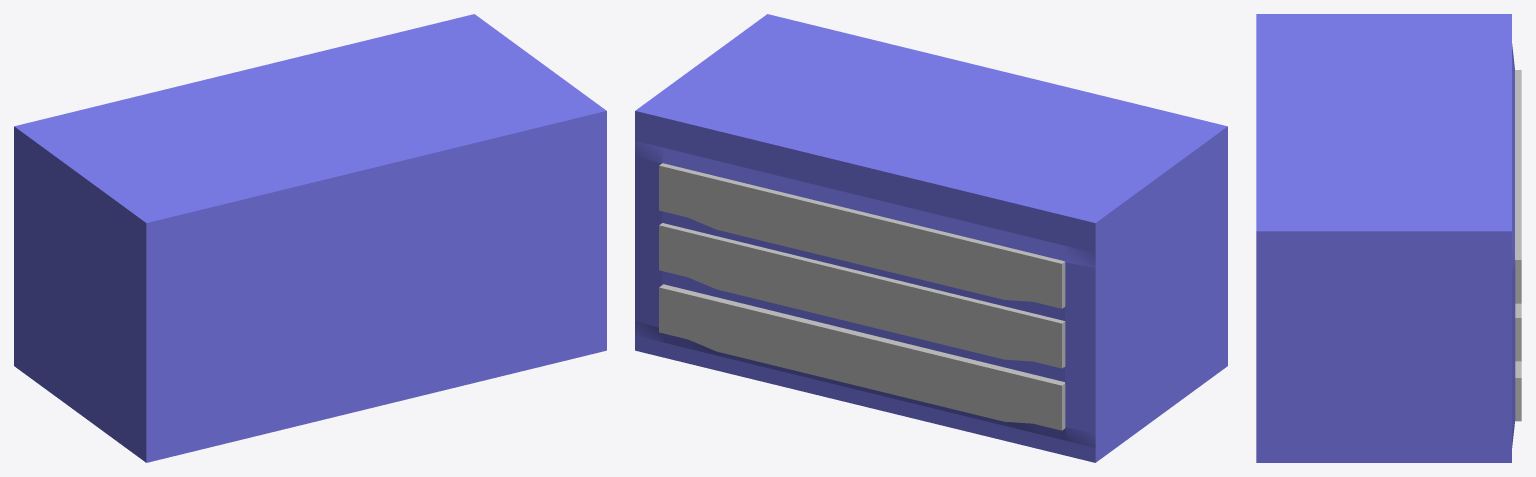
File: Chest_openable.fbx
3 views of the same model, side by side, from view 1: azimuth 30°, elevation 25°; view 2: azimuth 150°, elevation 25°; view 3: azimuth 270°, elevation 25° (orthographic). The views are drawn at different scales.
Parts seen in each view (by area): view 1: Chest_openable; view 2: Chest_openable, Chest_drawer__2_, Chest_drawer, Chest_drawer__1_; view 3: Chest_openable, Chest_drawer, Chest_drawer__2_, Chest_drawer__1_.
Part boxes in pixels (x1,y1,x2,y2): Chest_openable: (14, 14, 606, 462); Chest_openable: (635, 14, 1227, 462); Chest_drawer__2_: (659, 284, 1065, 430); Chest_drawer: (659, 163, 1065, 308); Chest_drawer__1_: (659, 223, 1065, 368); Chest_openable: (1256, 14, 1515, 462); Chest_drawer: (1515, 70, 1521, 303); Chest_drawer__2_: (1515, 361, 1521, 421); Chest_drawer__1_: (1515, 303, 1521, 361).
Bounding box in the file's own units: 201 × 100 × 104.
